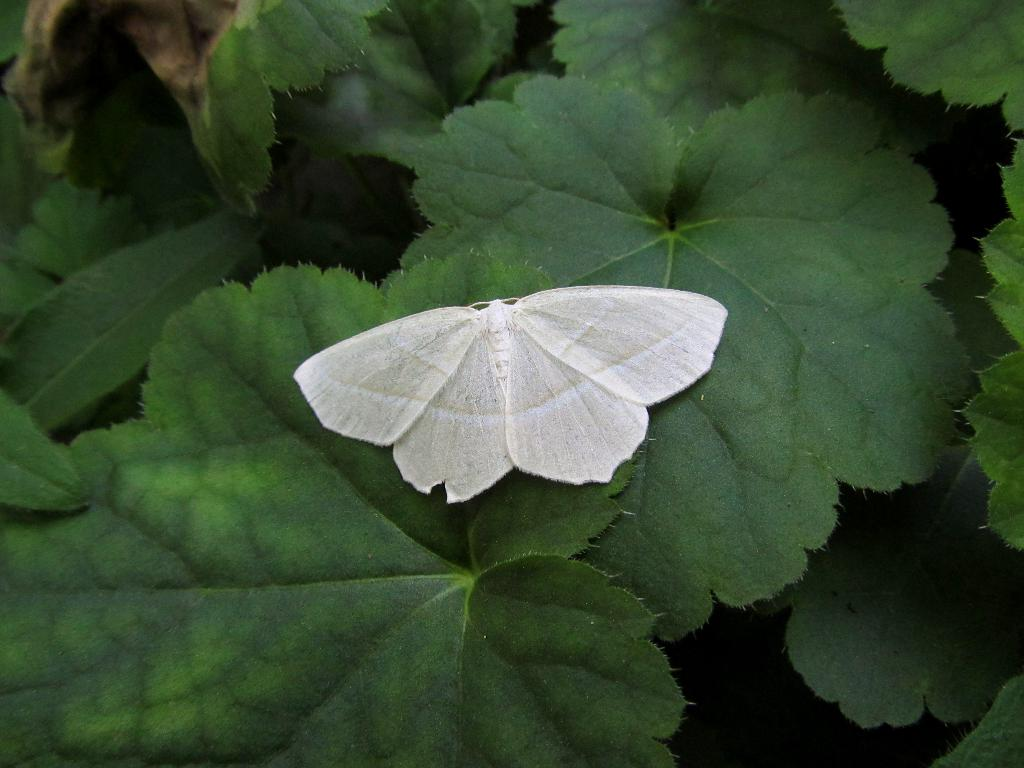Butterfly: (280, 271, 726, 506)
